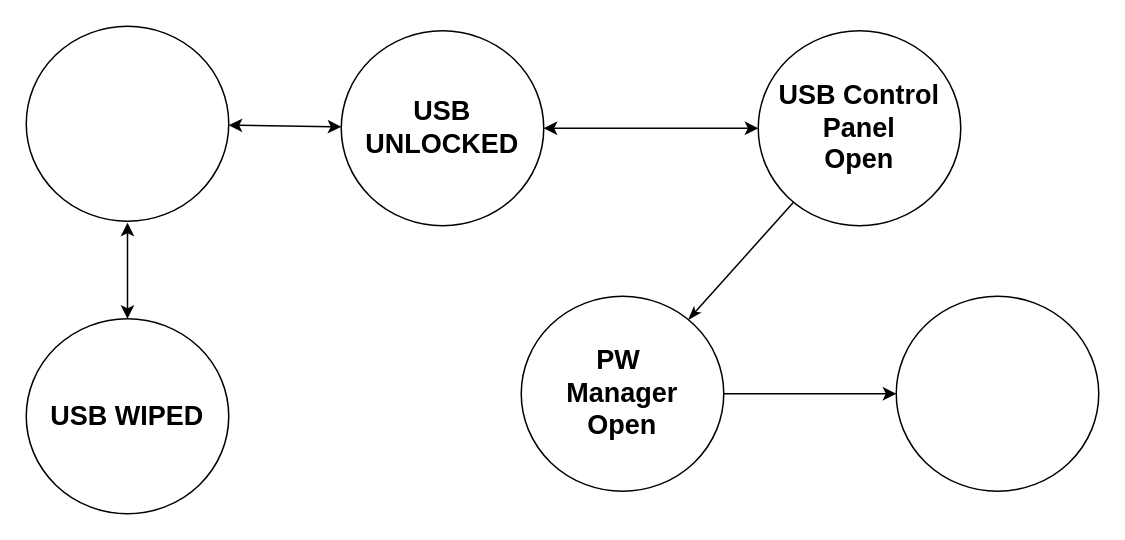
Some shapes in this 1125 by 540 pixel diagram are drawn without their labels. Each missing label, with the box of its shape:
PW Manager Closed: (895, 295, 1099, 491)
USB LOCKED: (25, 25, 229, 221)
